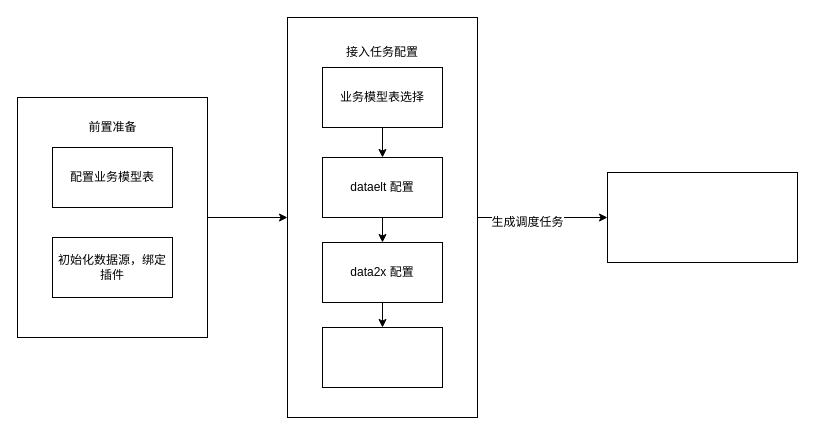
Some shapes in this 815 by 435 pixel diagram are drawn without their labels. The centre of each missing label's shape, as x and y in pixels:
"azkaban 调度执行" goes at point (702, 217).
"后续业务组件配置" goes at point (382, 357).
